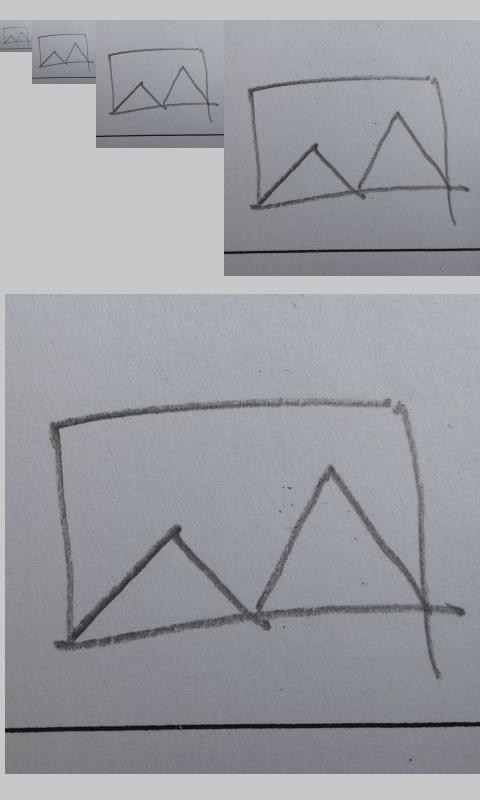image_view: (48, 397, 434, 648), (246, 73, 456, 208), (107, 47, 209, 115), (37, 33, 89, 68), (2, 26, 29, 44)
